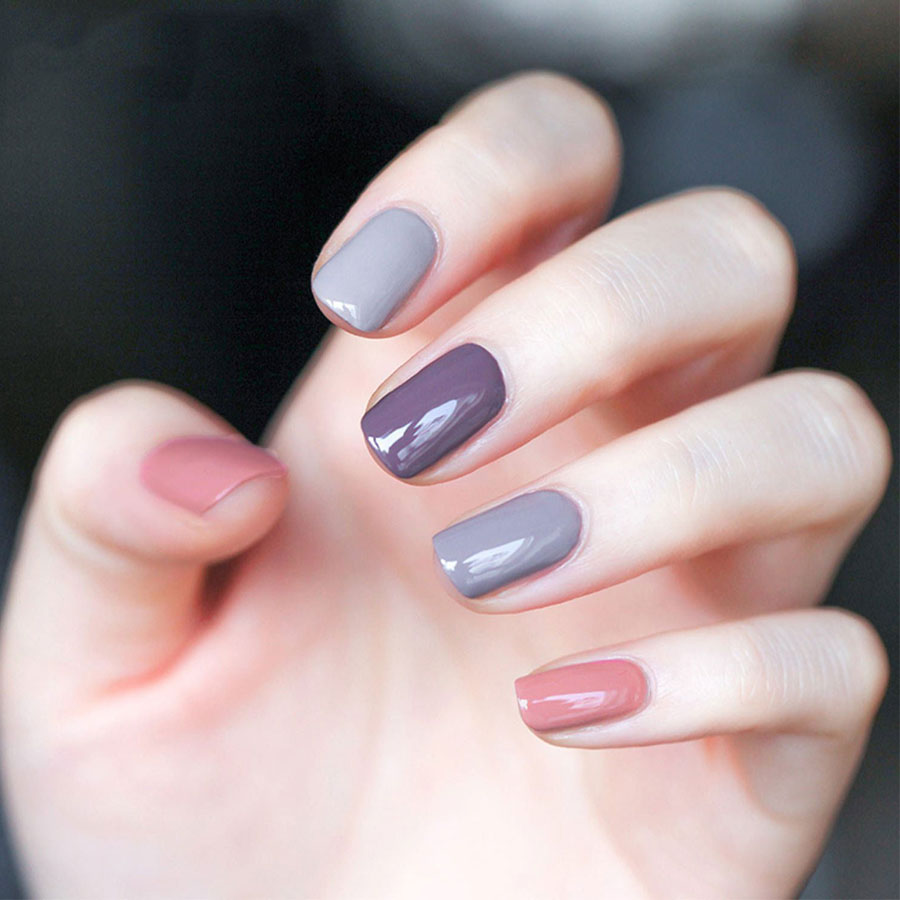nails: (358, 342, 508, 486), (307, 200, 442, 338), (426, 489, 584, 603), (134, 426, 289, 514), (509, 655, 665, 739)
